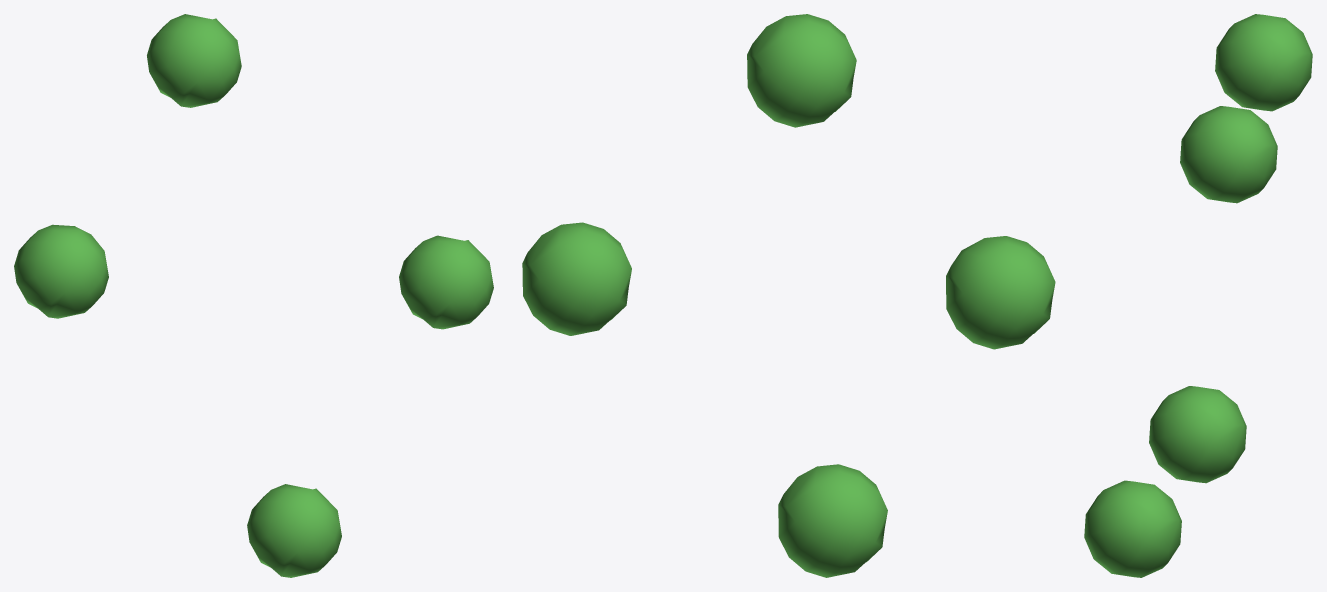
File: linfatico-coeliac-nodes.glb
The picture shows the model from 3 angles, left to right: view 1: azimuth 30°, elevation 25°; view 2: azimuth 150°, elevation 25°; view 3: azimuth 270°, elevation 25°; orthographic projection. The views are drawn at different scales.
Parts seen in each view (by area): view 1: Coeliac nodes; view 2: Coeliac nodes; view 3: Coeliac nodes.
Boxes of the visible parts, <box> form: Coeliac nodes: <box>14,14,493,577</box>; Coeliac nodes: <box>522,14,1055,577</box>; Coeliac nodes: <box>1084,14,1312,577</box>.
Bounding box in the file's own units: 0.0141 × 0.0155 × 0.00598.
